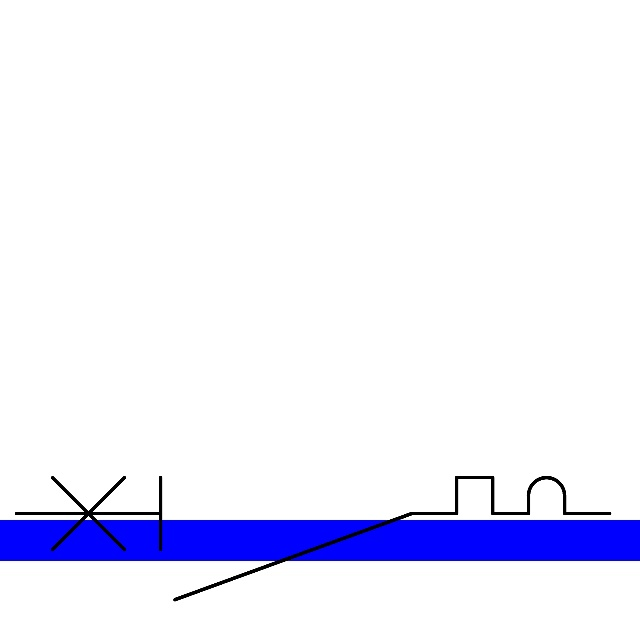interruptor_termomagnetico: (1, 462, 625, 614)
